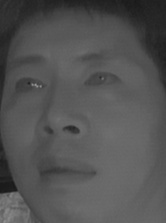eye: (82, 66, 122, 92), (8, 75, 51, 99)
mouth: (32, 156, 97, 188)
